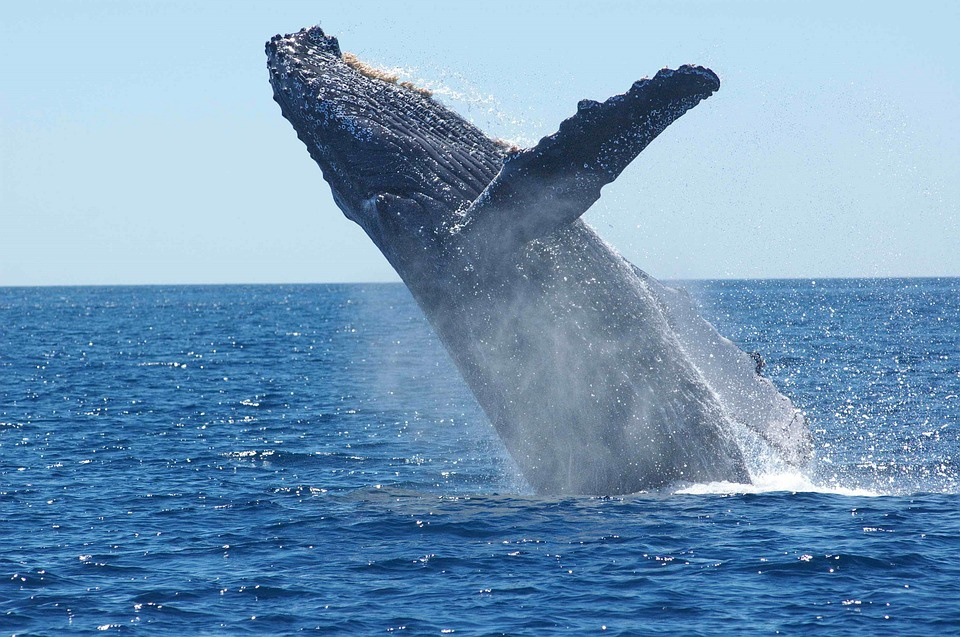humpback: (259, 23, 757, 486)
